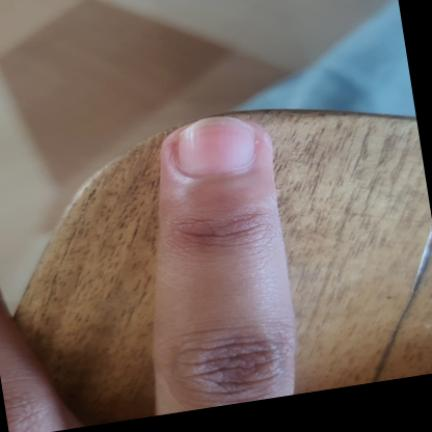Nail: (179, 117, 254, 176)
